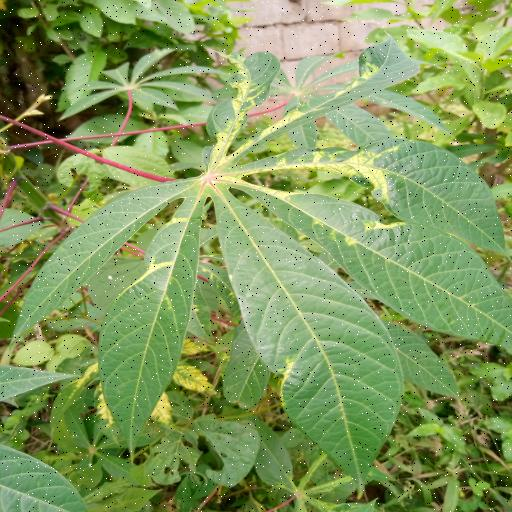Cassava_Mosaic: (5, 43, 512, 496)
